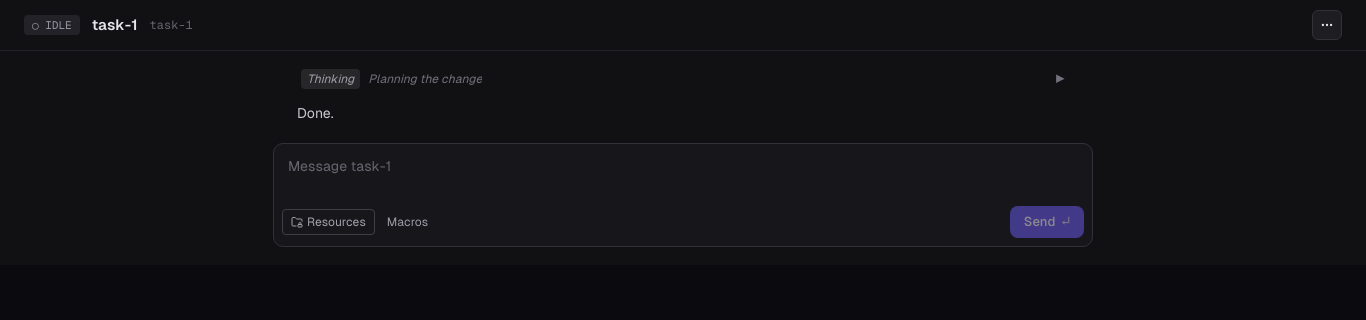
Test: NativeAgentPanel and what an agent thinks › shows a thought as one line that opens to all of it
The width and height of the screenshot is (1366, 320).
Expected: the text "next to --all" is not shown
What coordinates should you click on to do the following:
click the button "Thinking Planning the change ▶"
I would click on:
 (331, 79)
Its box is [297,67,1069,91].
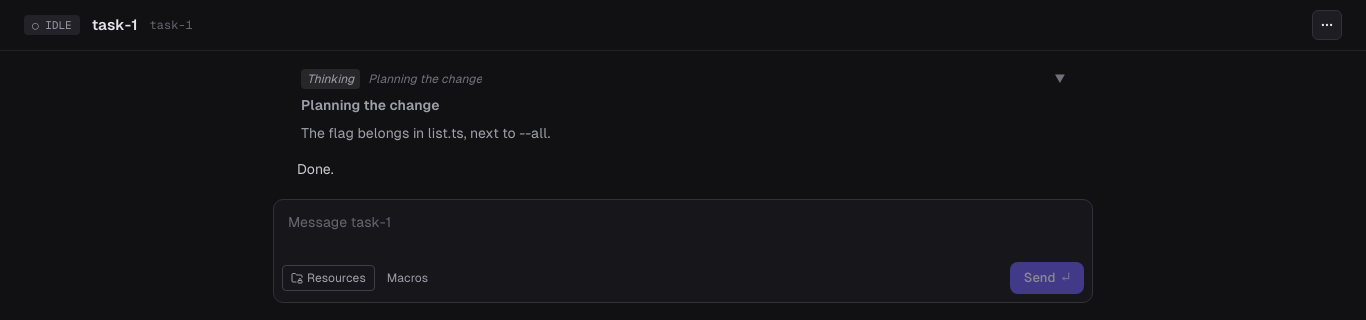
Now the text "The flag belongs in list.ts, next to --all." is shown, box [301,125,550,141]
Now the button "Thinking Planning the change ▼" is expanded, box [297,67,1069,91]
